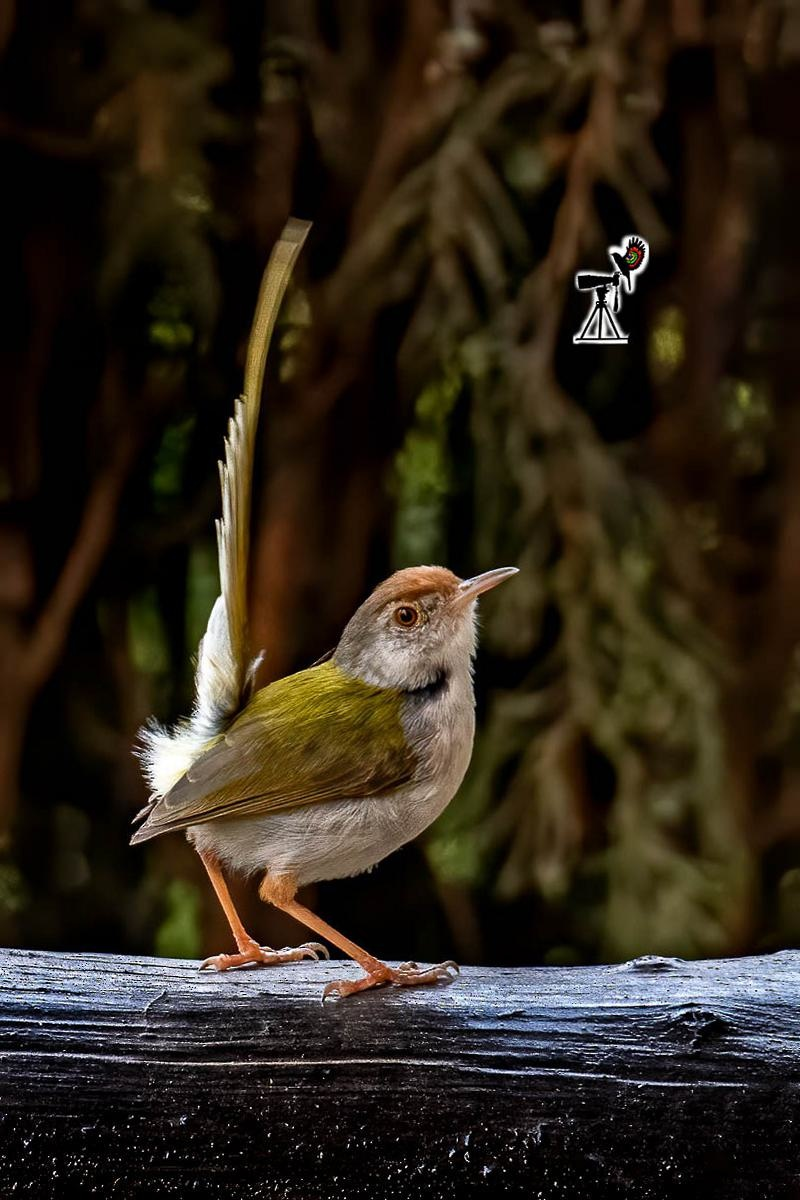tailorbird: (139, 204, 517, 1024)
